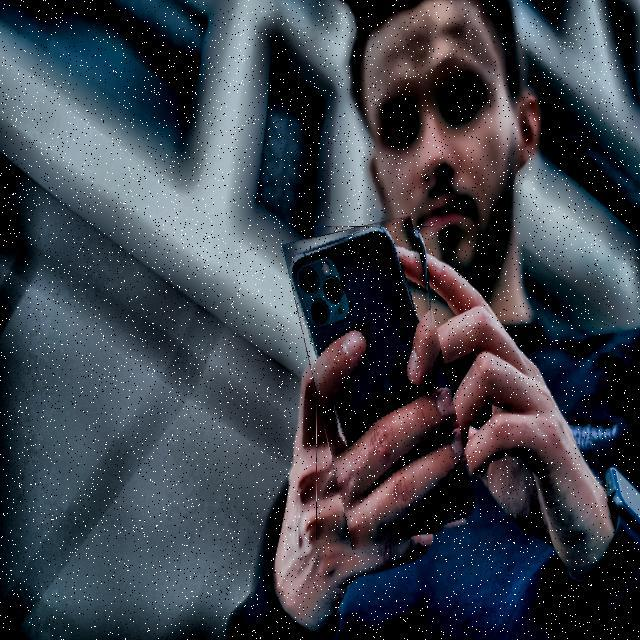Phone: (300, 221, 464, 545)
